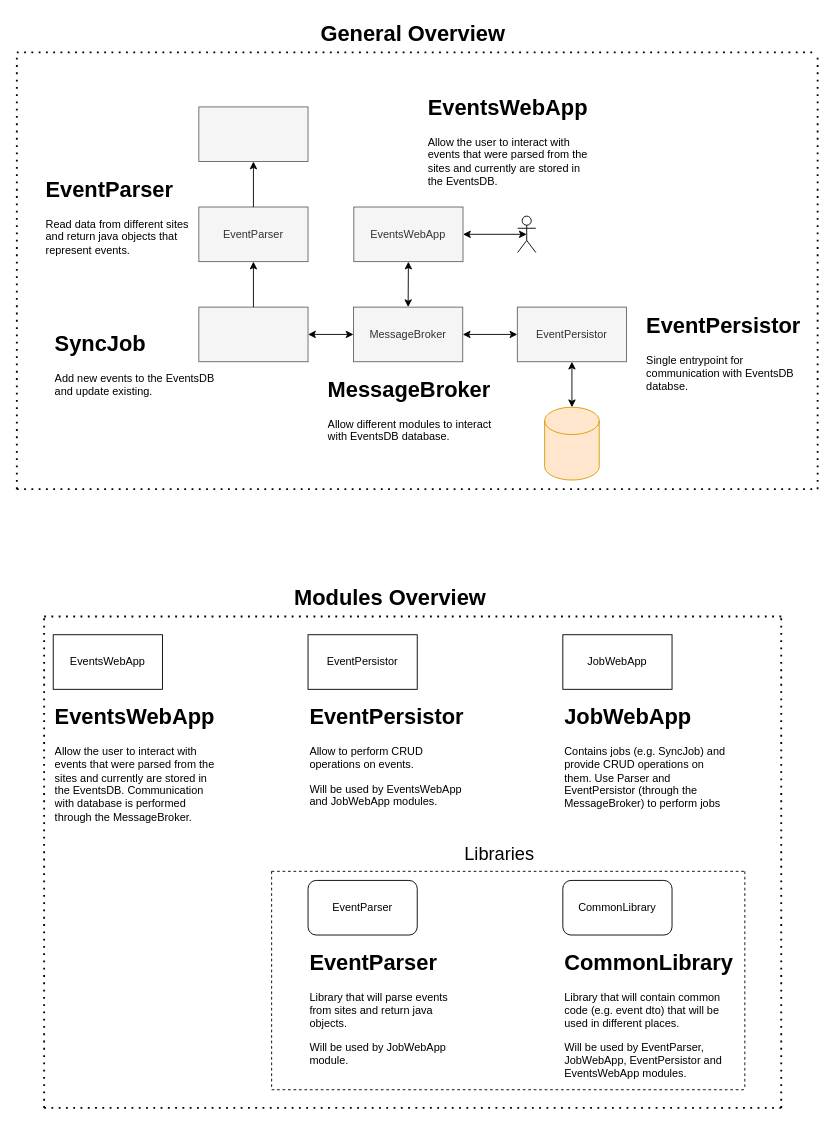
This 834x1125 diagram has some shape labels left out. Each missing label, with the box of its shape:
EventsDB: (544, 406, 599, 480)
SitesWithEvents: (198, 106, 308, 162)
SyncJob: (198, 306, 308, 362)
User: (517, 215, 536, 253)
